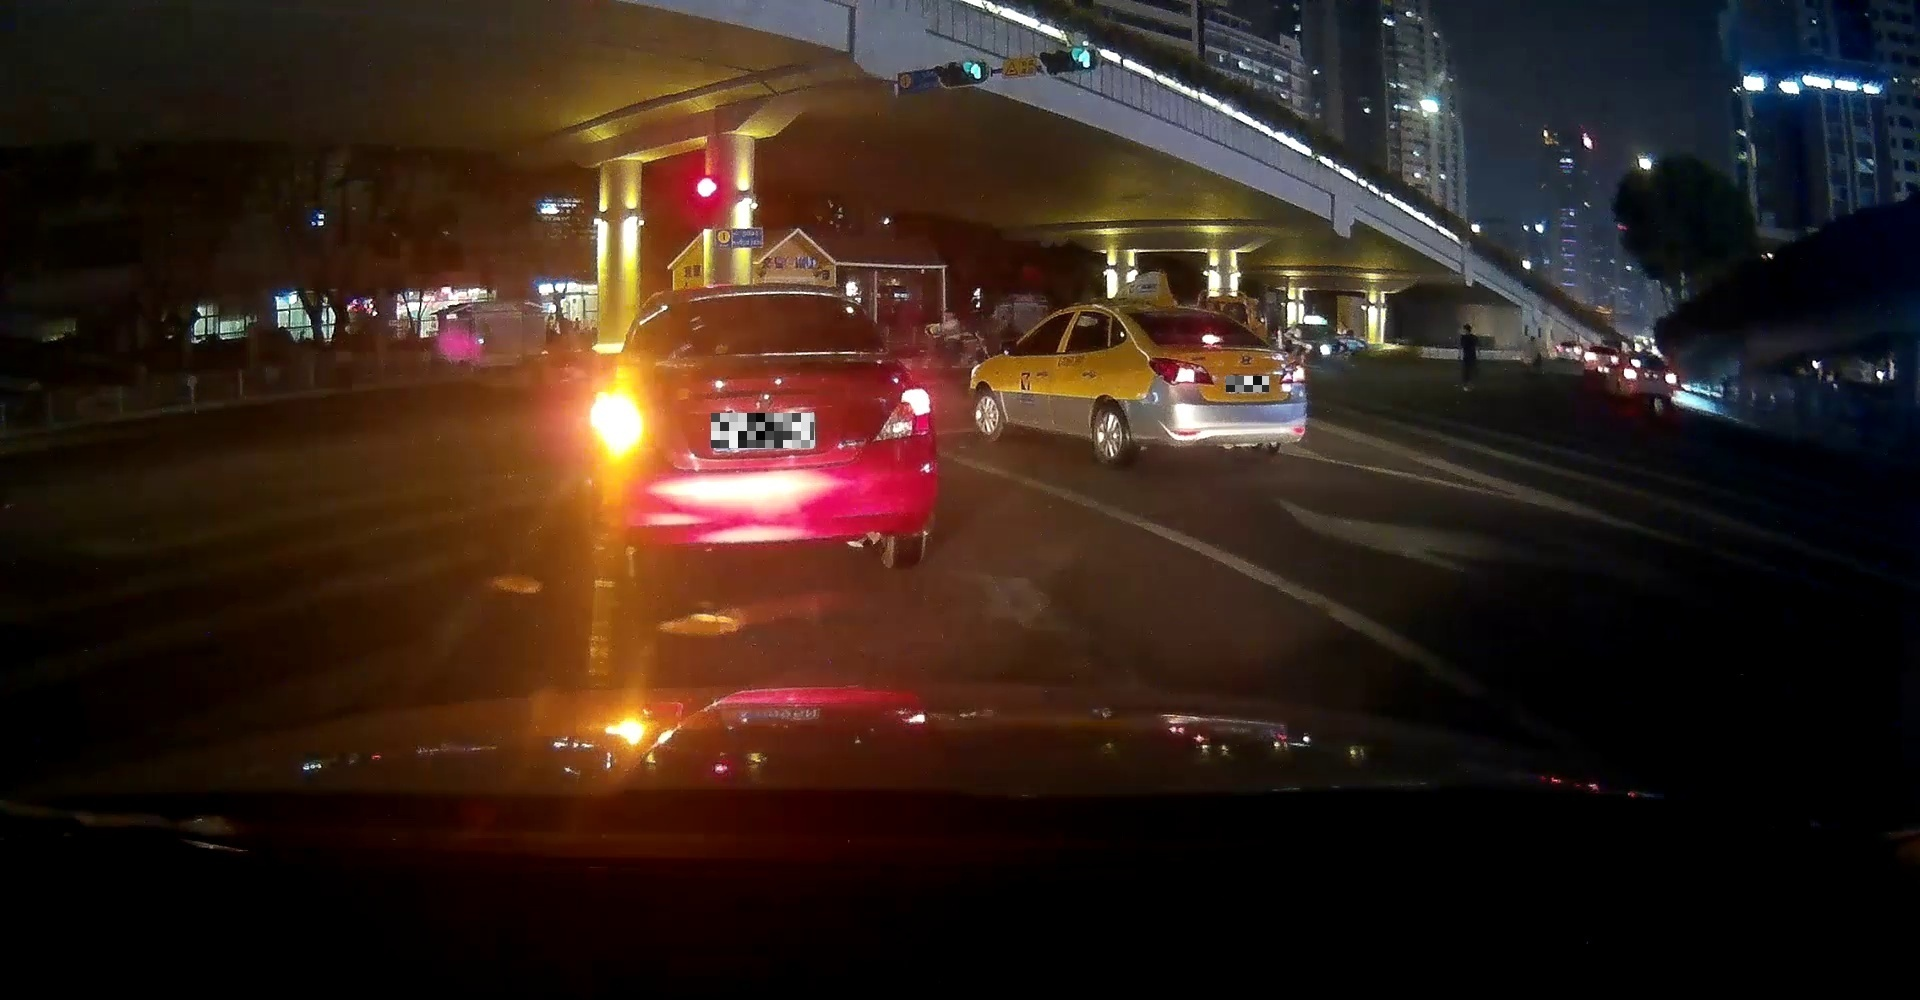L_light: (590, 388, 644, 463), (1148, 357, 1214, 386)
R_light: (871, 385, 931, 442), (1277, 360, 1307, 386)
T_light: (739, 296, 786, 307), (1201, 332, 1223, 343)
night-brake: (1117, 303, 1307, 464)
night-left: (589, 286, 935, 580)
plate_1: (711, 412, 814, 448)
plate_2: (1225, 376, 1269, 392)
